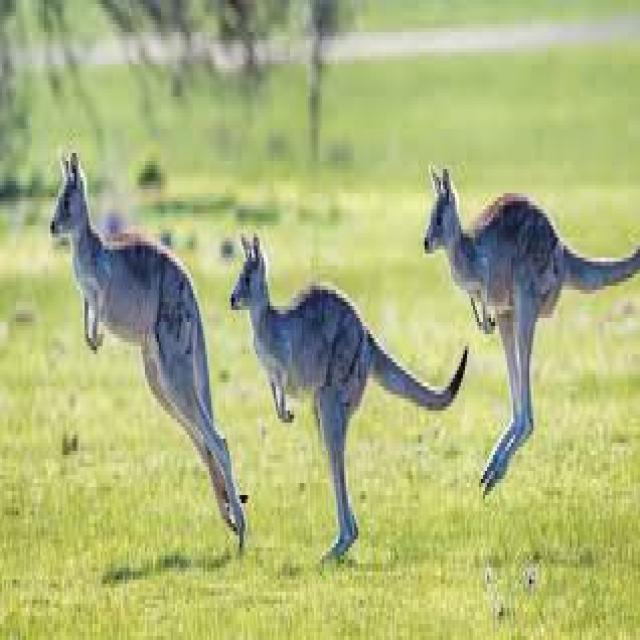Kangaroo: (227, 208, 469, 564), (47, 139, 248, 557), (415, 154, 640, 510)
